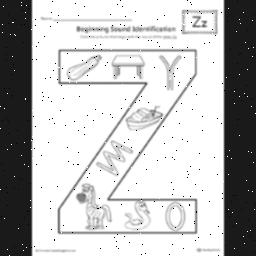m: (104, 137, 136, 169)
o: (166, 201, 188, 231)
y: (156, 53, 182, 91)
